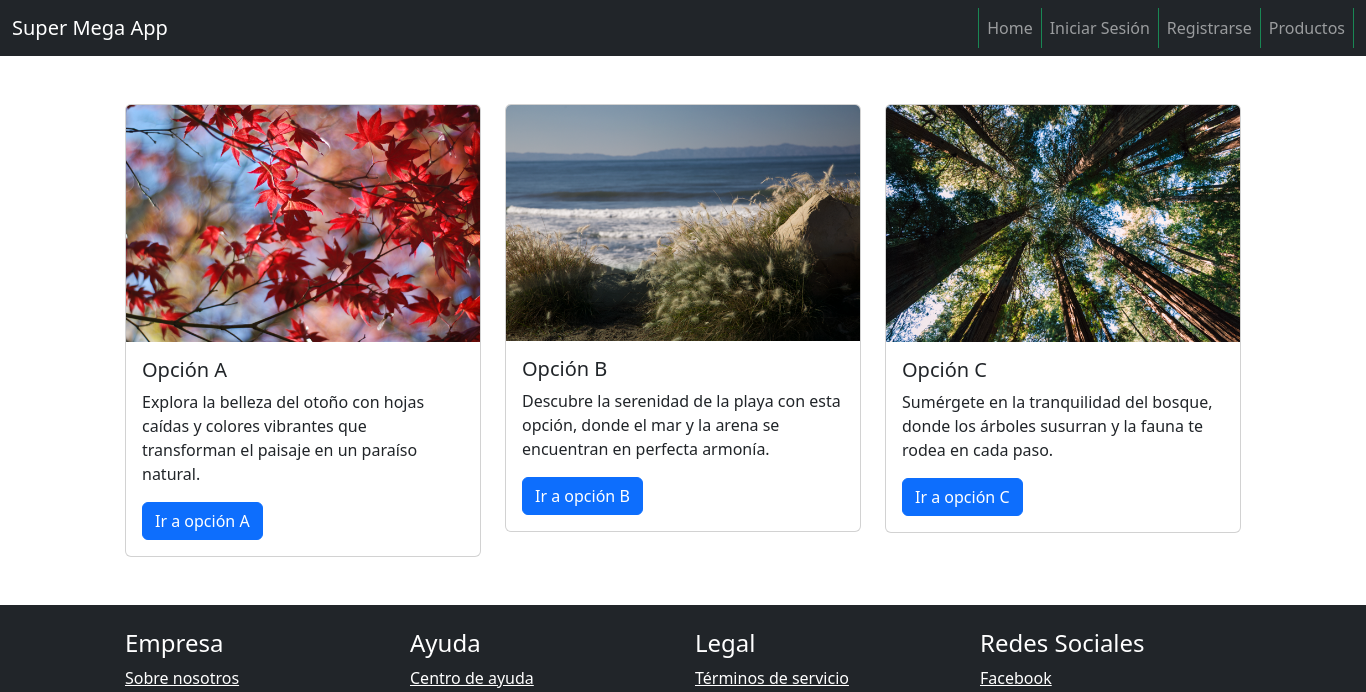
Test case: formulario de registro › validar un registro exitoso
Click the link to "/register" at coordinates (1210, 28), box left=1159, top=8, right=1261, bottom=48
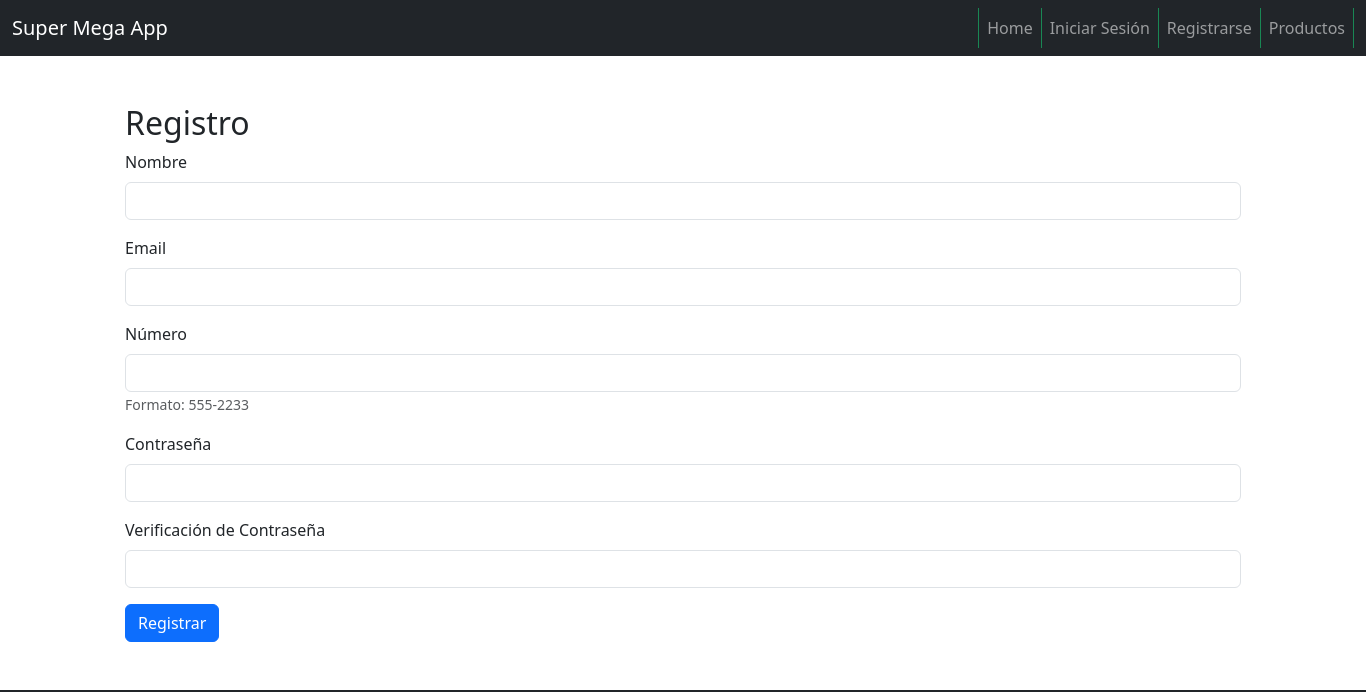
Type "Alejandro Ramírez" into the field named "name" at coordinates (683, 201), box left=125, top=182, right=1241, bottom=220
Type "alejo@email.com" into the field named "email" at coordinates (683, 287), box left=125, top=268, right=1241, bottom=306
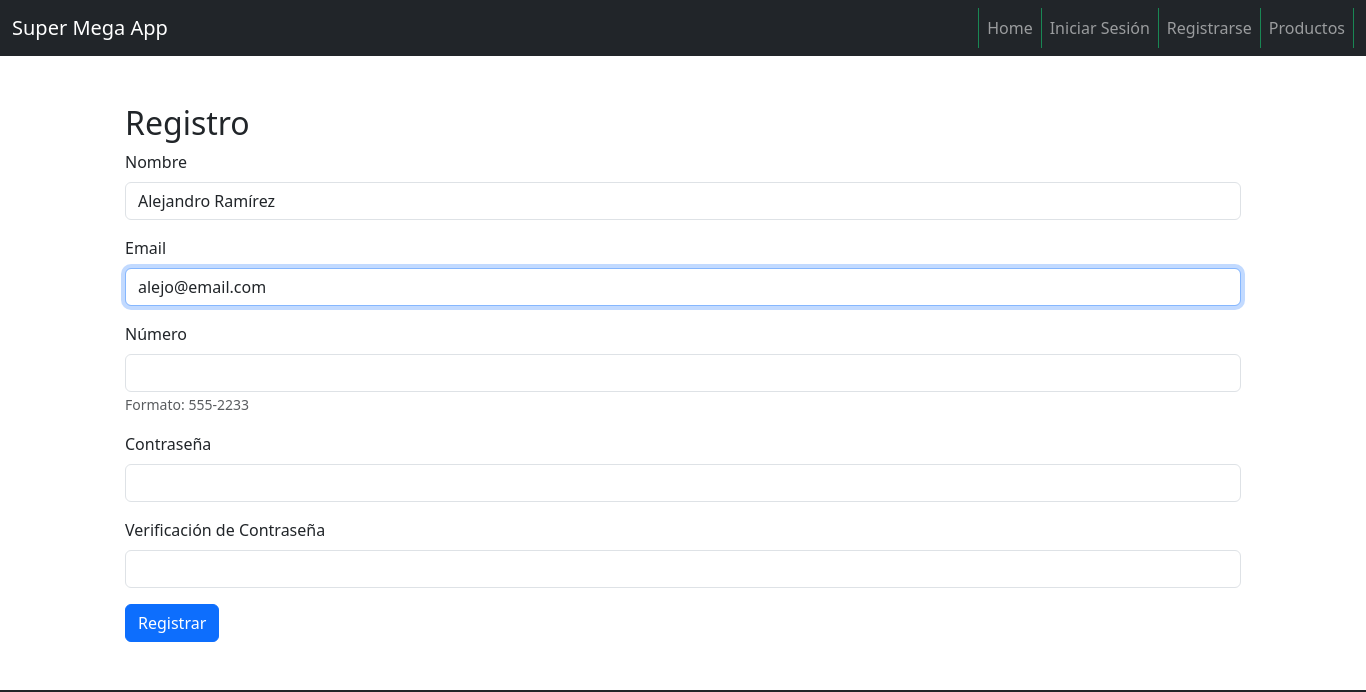
Type "555-2233" into the field named "phone" at coordinates (683, 373), box left=125, top=354, right=1241, bottom=392
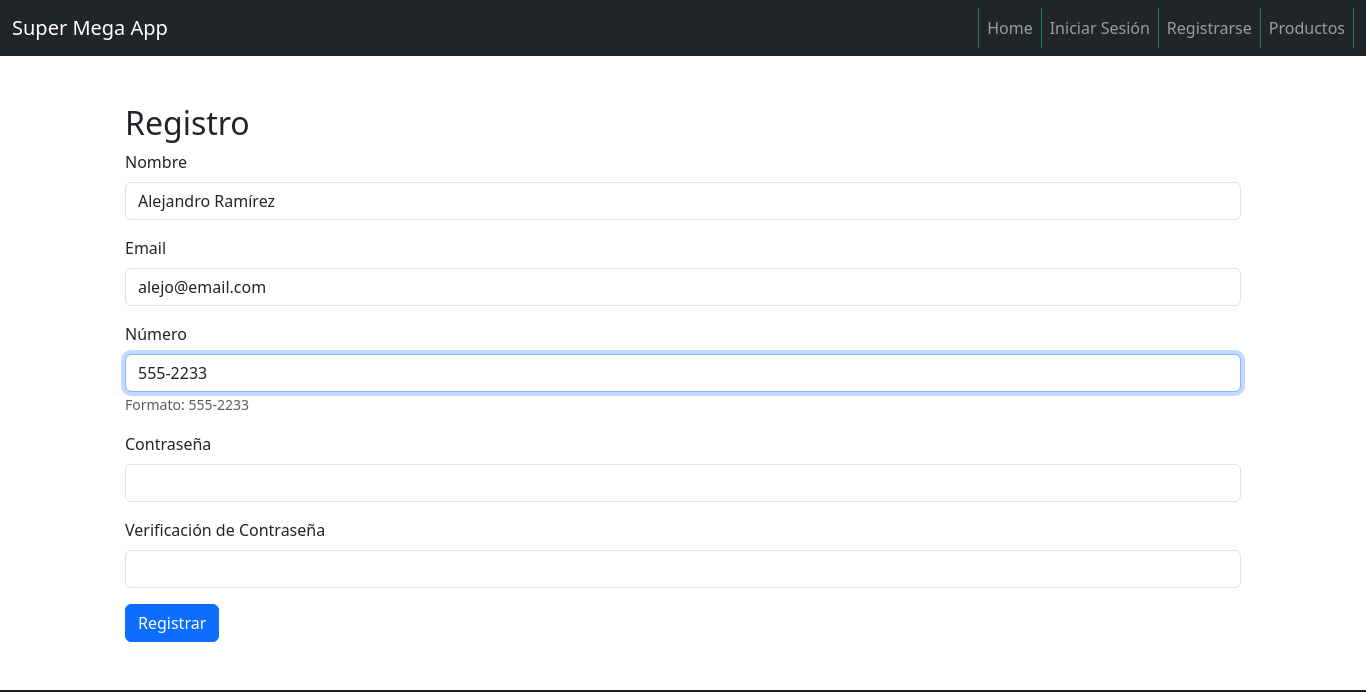
Type "password123" into the password field named "password" at coordinates (683, 483), box left=125, top=464, right=1241, bottom=502
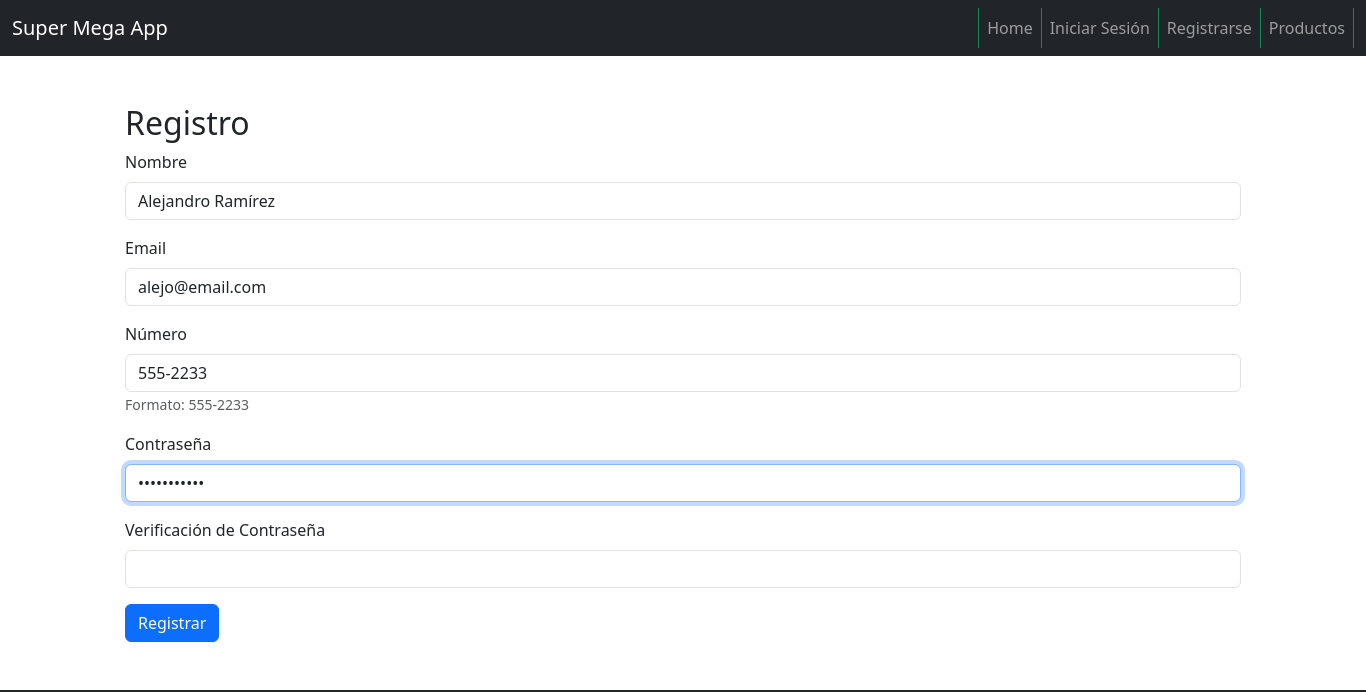
Type "password123" into the password field named "confirmPassword" at coordinates (683, 569), box left=125, top=550, right=1241, bottom=588
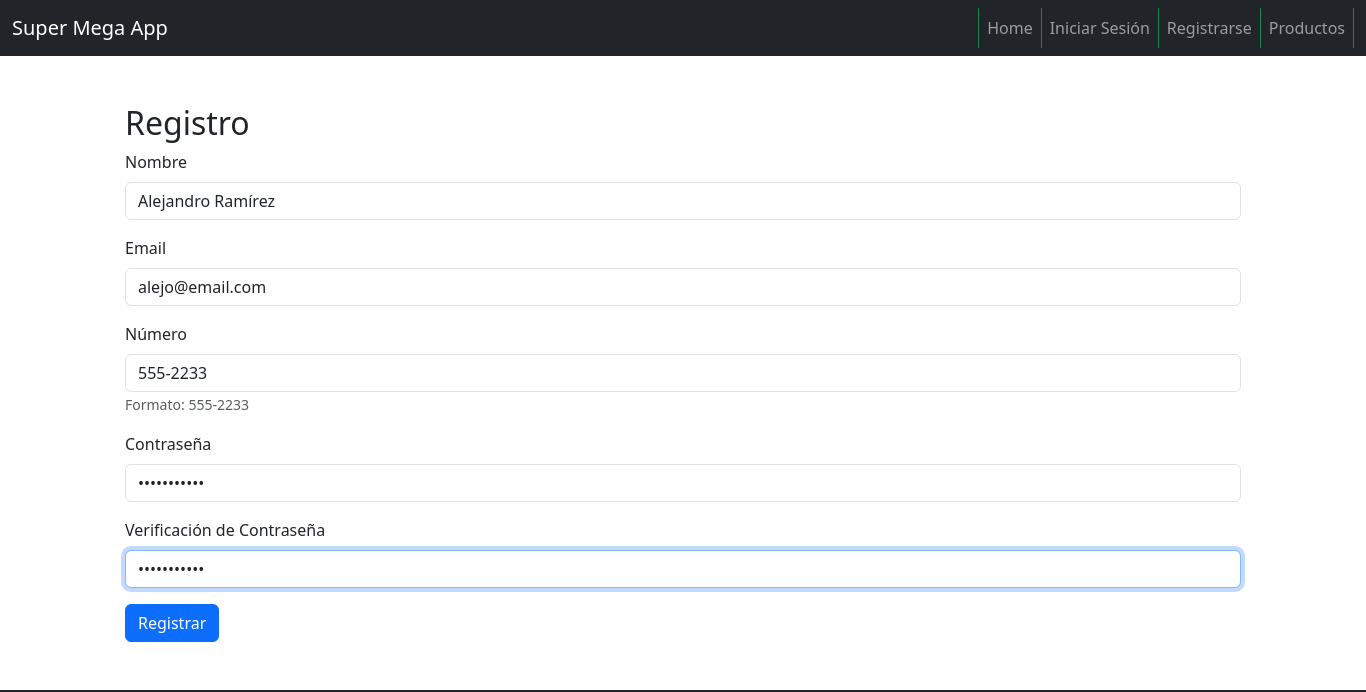
Submit the form, box left=125, top=150, right=1241, bottom=642
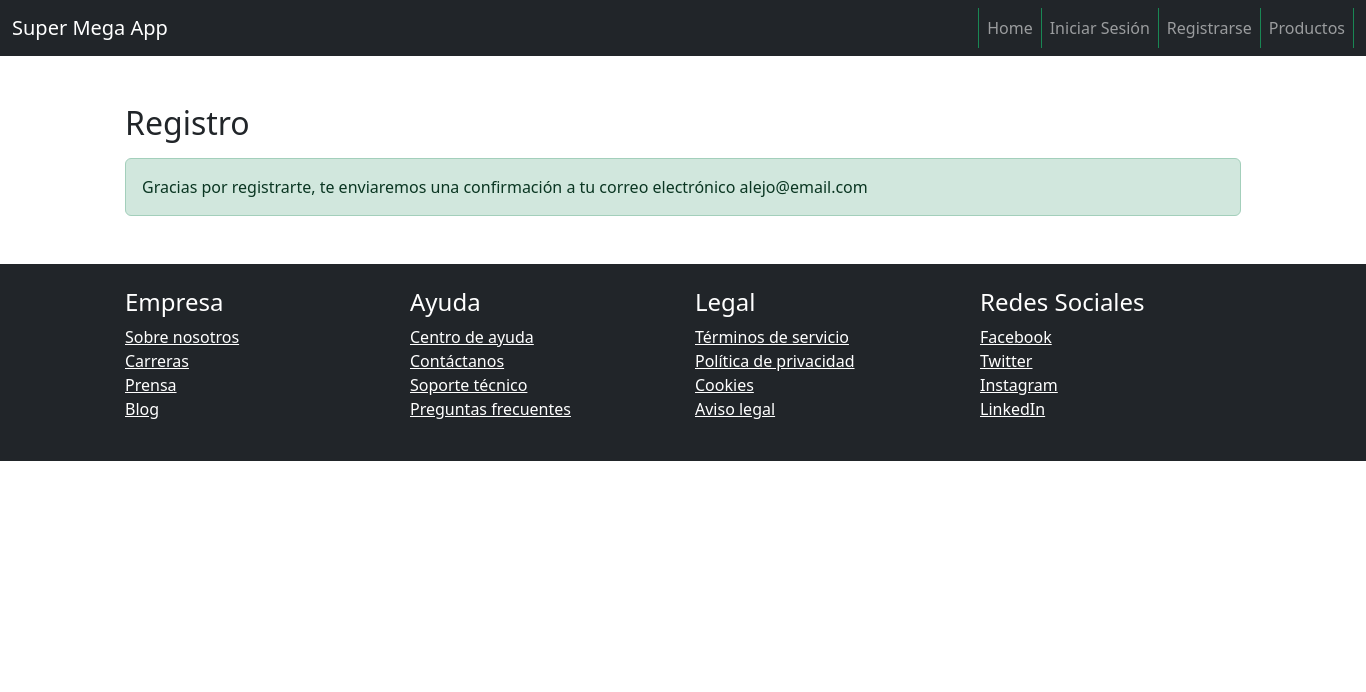
Expected: the text "Gracias por registrarte" shows "alejo@email.com", left=142, top=176, right=868, bottom=198
